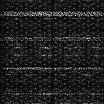lte: (1, 10, 104, 16), (1, 37, 104, 40), (1, 66, 103, 69)
